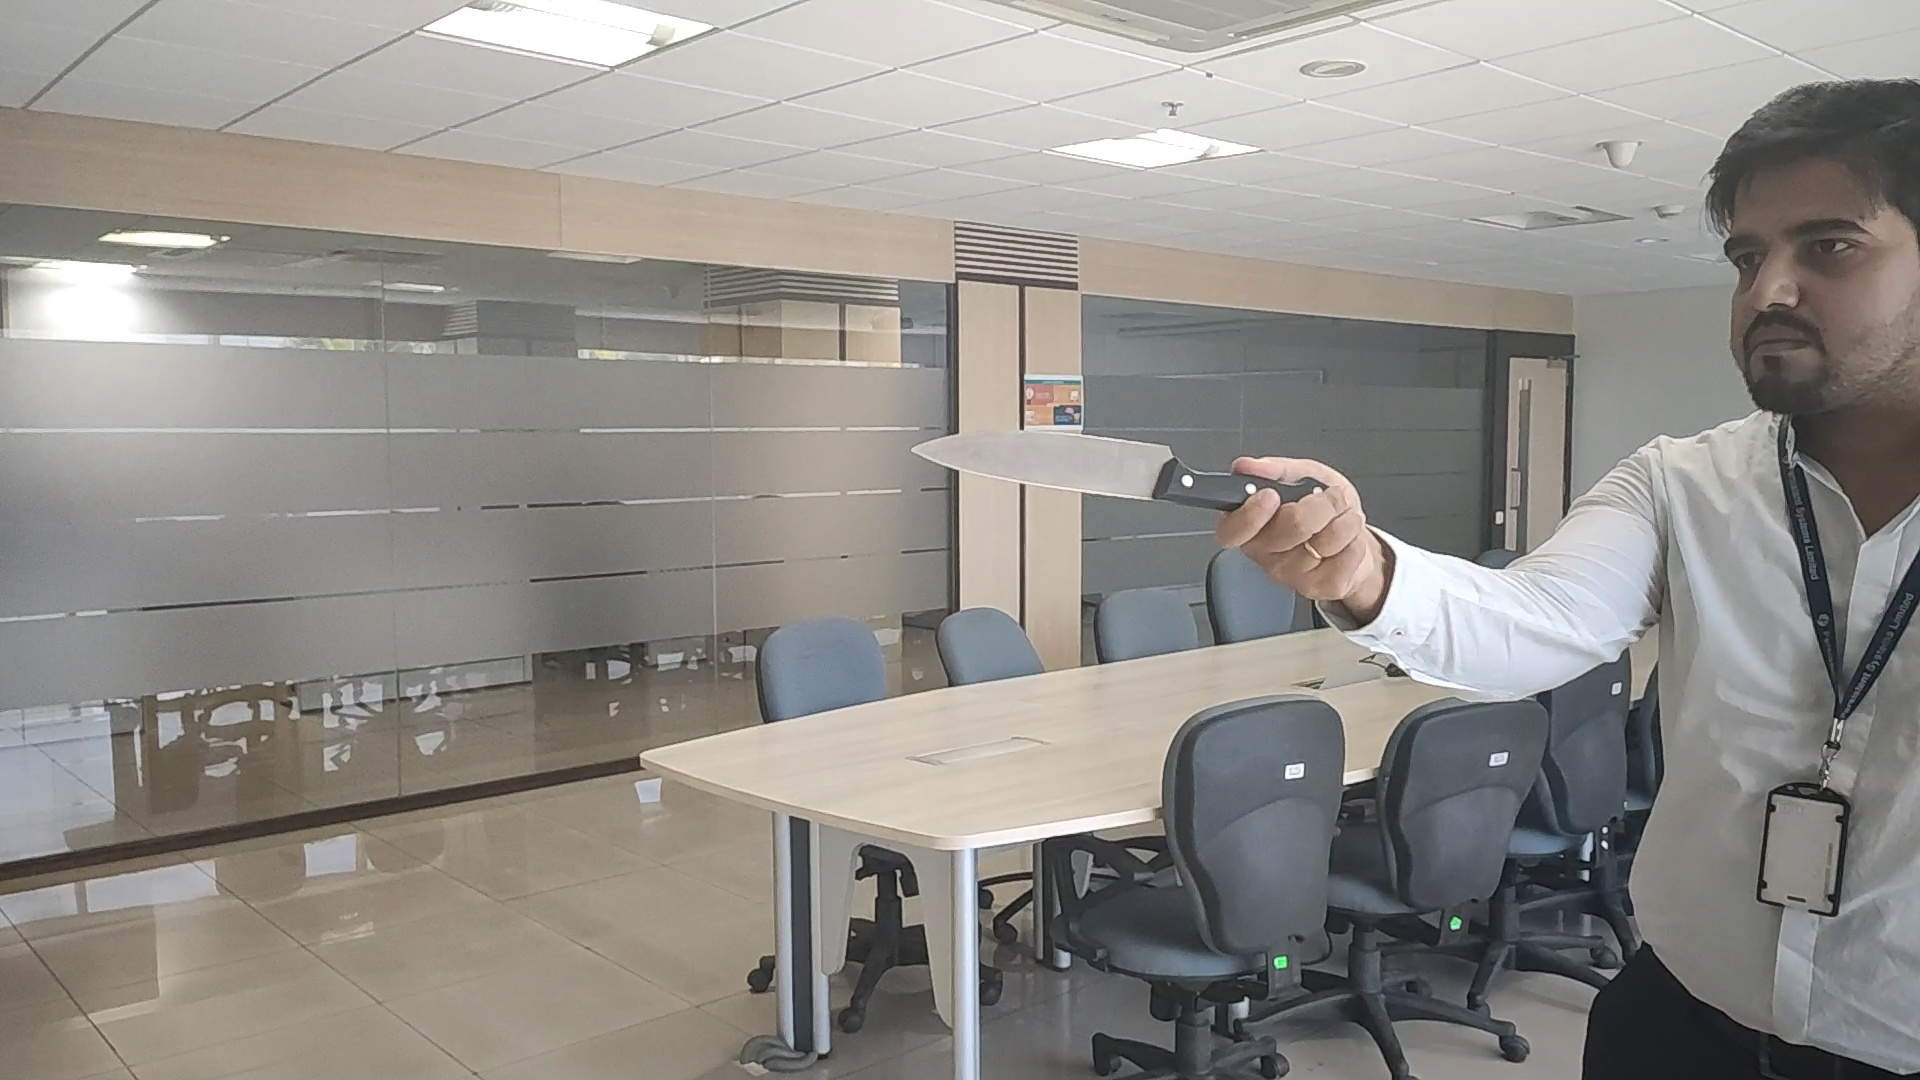knife: (909, 426, 1238, 512)
